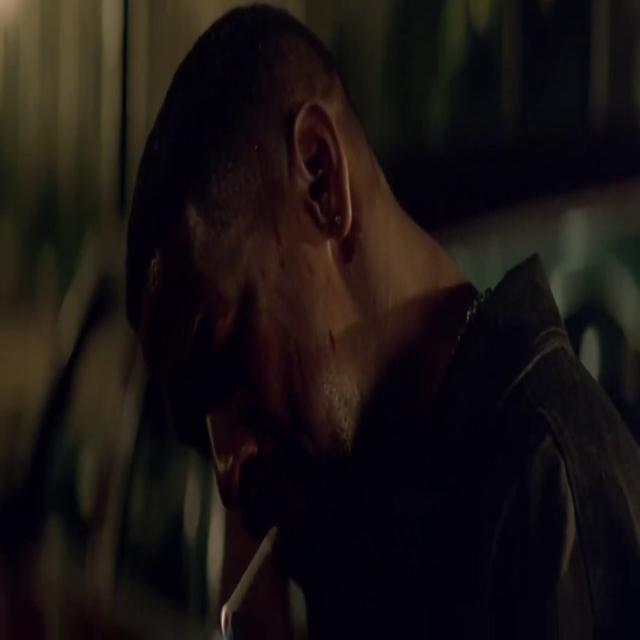Smooking: (210, 514, 288, 626)
